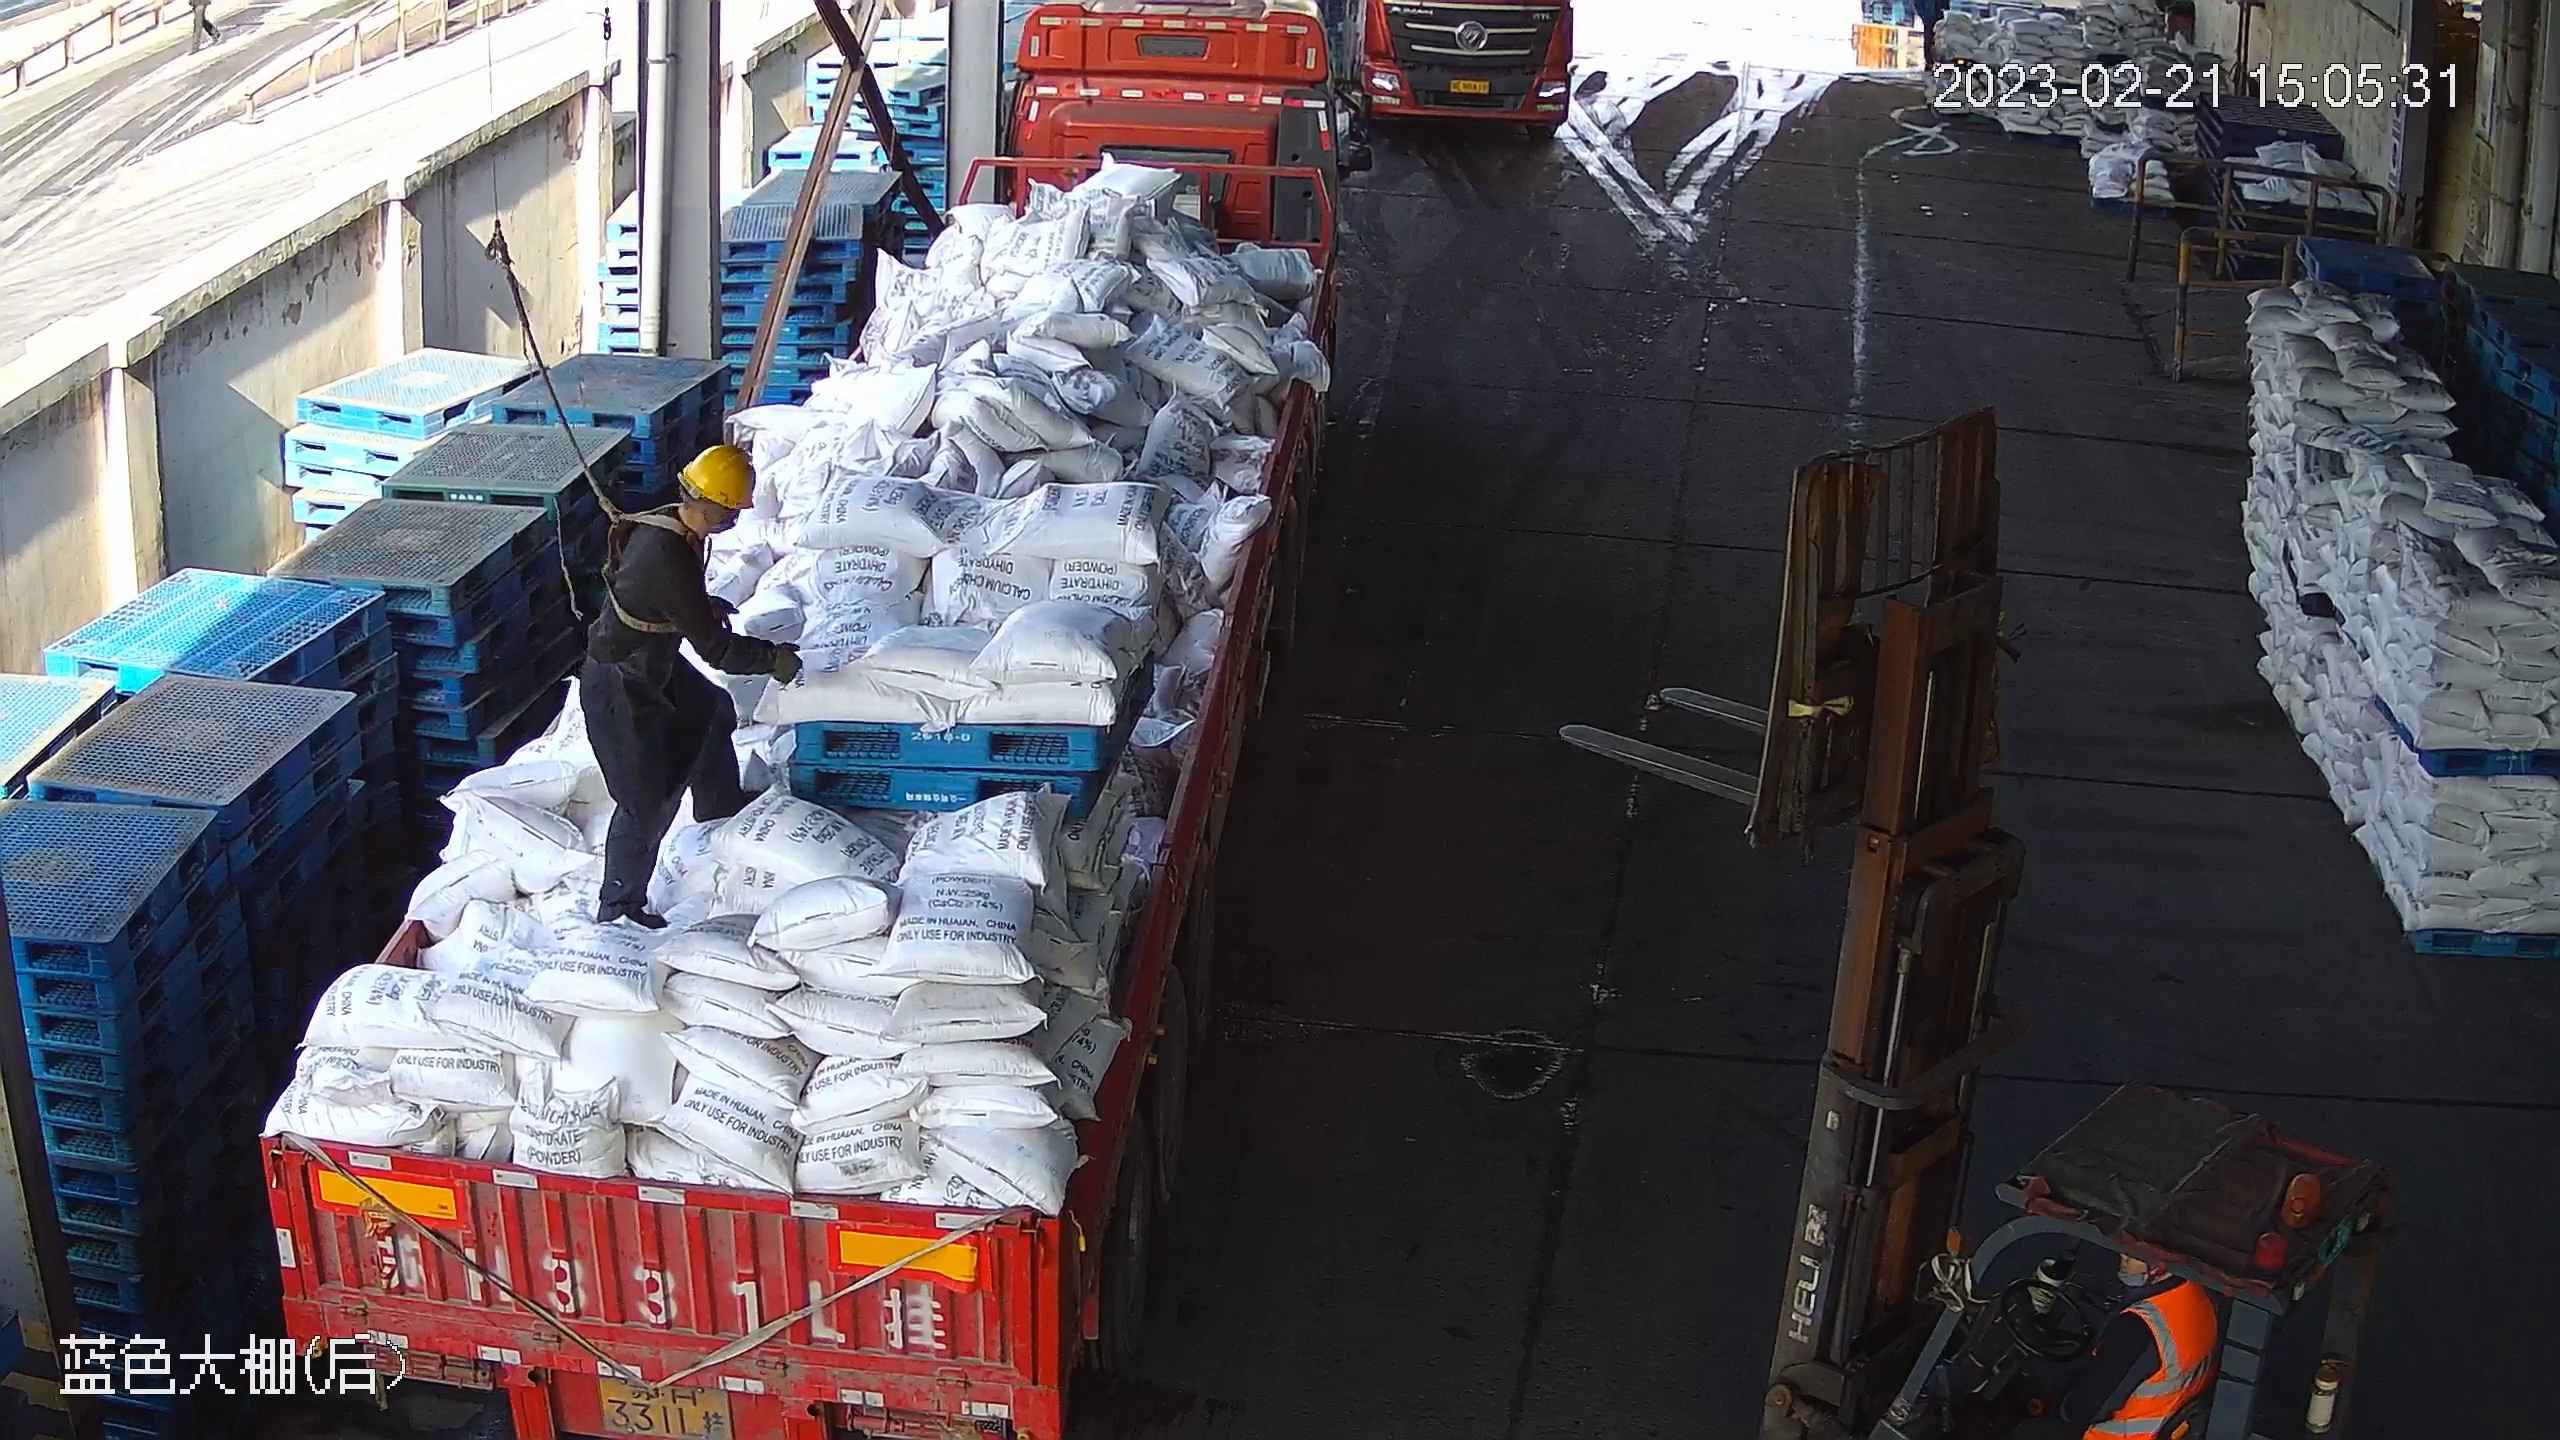belt: (593, 490, 698, 651)
head: (2034, 1251, 2222, 1440), (586, 443, 760, 616)
helmet: (679, 443, 754, 515)
people: (575, 439, 797, 923)
truck: (254, 1, 1375, 1434), (1333, 1, 1583, 148)
